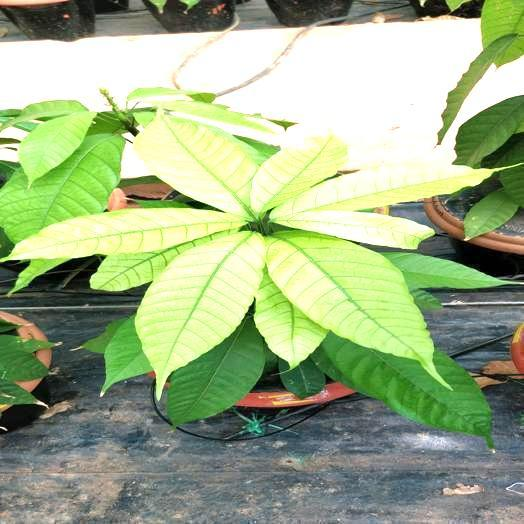Healthy Leaf: (313, 333, 492, 446), (167, 319, 264, 425), (438, 35, 515, 142), (455, 95, 523, 166), (382, 251, 504, 288), (0, 334, 51, 416), (102, 316, 151, 394), (482, 0, 523, 65), (465, 189, 518, 239), (280, 358, 324, 398), (500, 166, 523, 207)
Iron: (267, 231, 447, 386), (136, 231, 264, 398), (135, 111, 256, 220), (0, 135, 123, 242), (270, 163, 491, 220), (10, 208, 246, 259), (129, 88, 283, 144), (251, 134, 346, 213), (254, 271, 326, 368), (91, 237, 206, 290), (273, 210, 433, 248), (19, 112, 95, 186)
